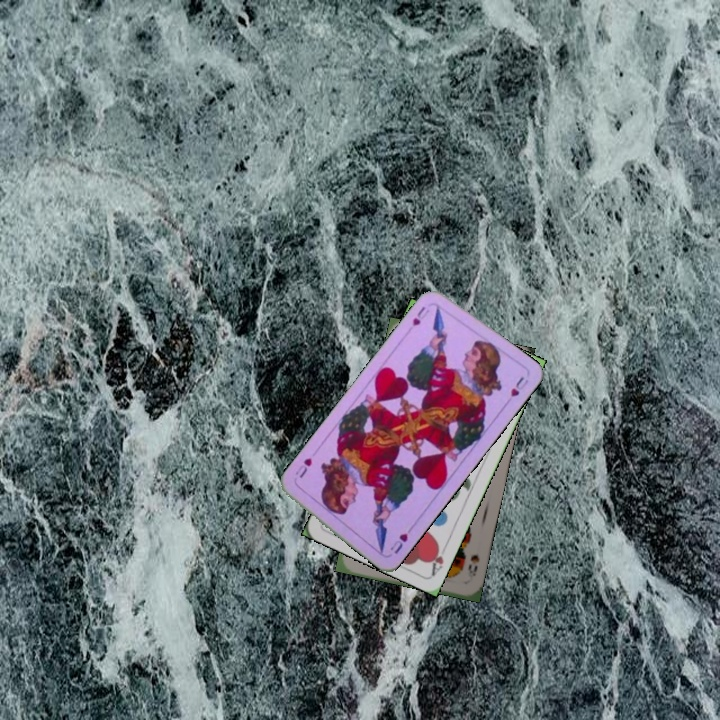HA: (426, 539, 450, 578)
HU: (386, 523, 414, 557), (408, 302, 432, 329)
S8: (464, 551, 482, 584)
